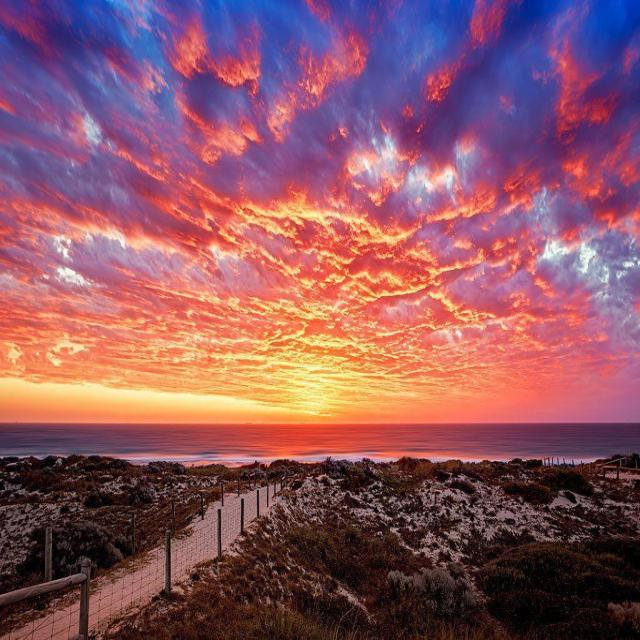other: (100, 109, 555, 288), (224, 294, 388, 417)
